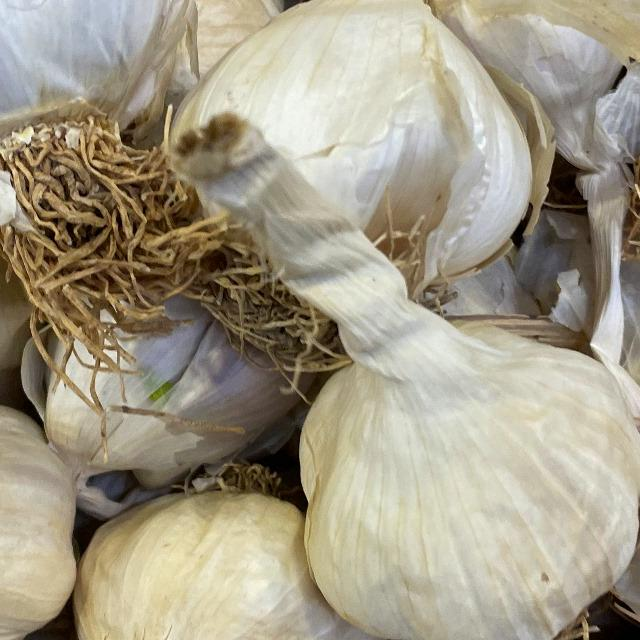garlic: (220, 167, 640, 640), (0, 0, 222, 315)
